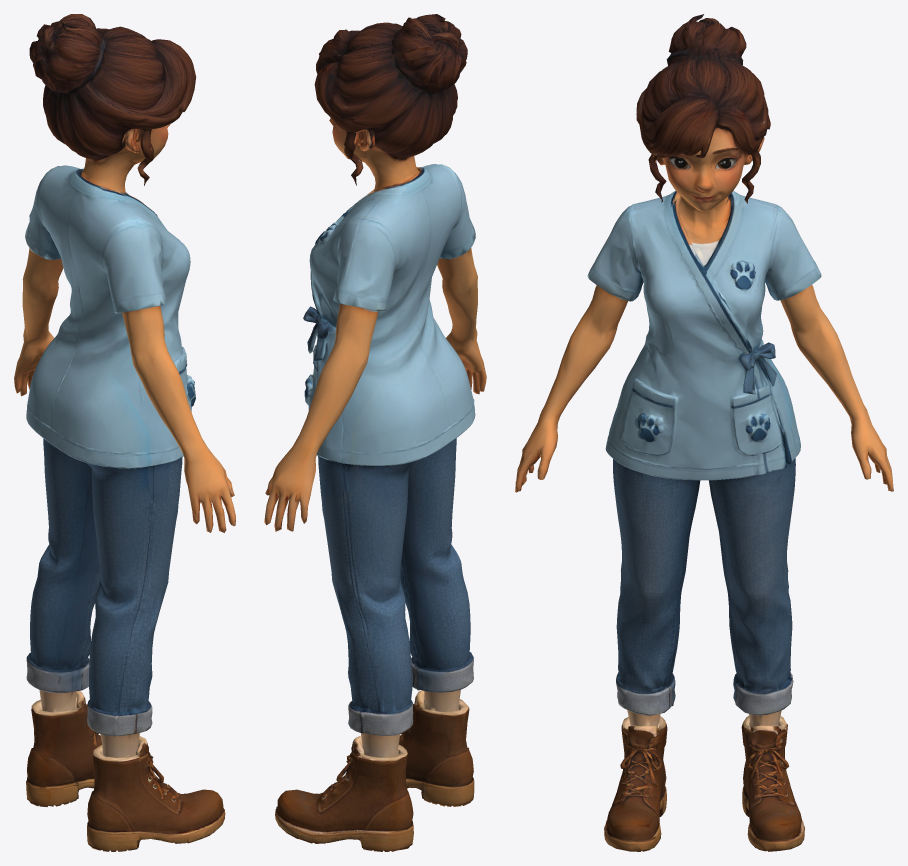
Rendered from ThuYNPC.glb.
3 views of the same model, side by side, from view 1: azimuth 30°, elevation 25°; view 2: azimuth 150°, elevation 25°; view 3: azimuth 270°, elevation 25° (orthographic). The views are drawn at different scales.
Visible parts, largest first — view 1: tripo_node_c26eadac-eb1a-4383-aef7-a4e1556865ea; view 2: tripo_node_c26eadac-eb1a-4383-aef7-a4e1556865ea; view 3: tripo_node_c26eadac-eb1a-4383-aef7-a4e1556865ea.
Part boxes in pixels (box(x1,y1,x2,y2)): tripo_node_c26eadac-eb1a-4383-aef7-a4e1556865ea: box(14, 14, 235, 851); tripo_node_c26eadac-eb1a-4383-aef7-a4e1556865ea: box(264, 14, 486, 851); tripo_node_c26eadac-eb1a-4383-aef7-a4e1556865ea: box(515, 14, 893, 851).
Size of the model in its own units: 0.1884 by 0.9784 by 0.4278.
Materials: 1 (1 with a texture image).
